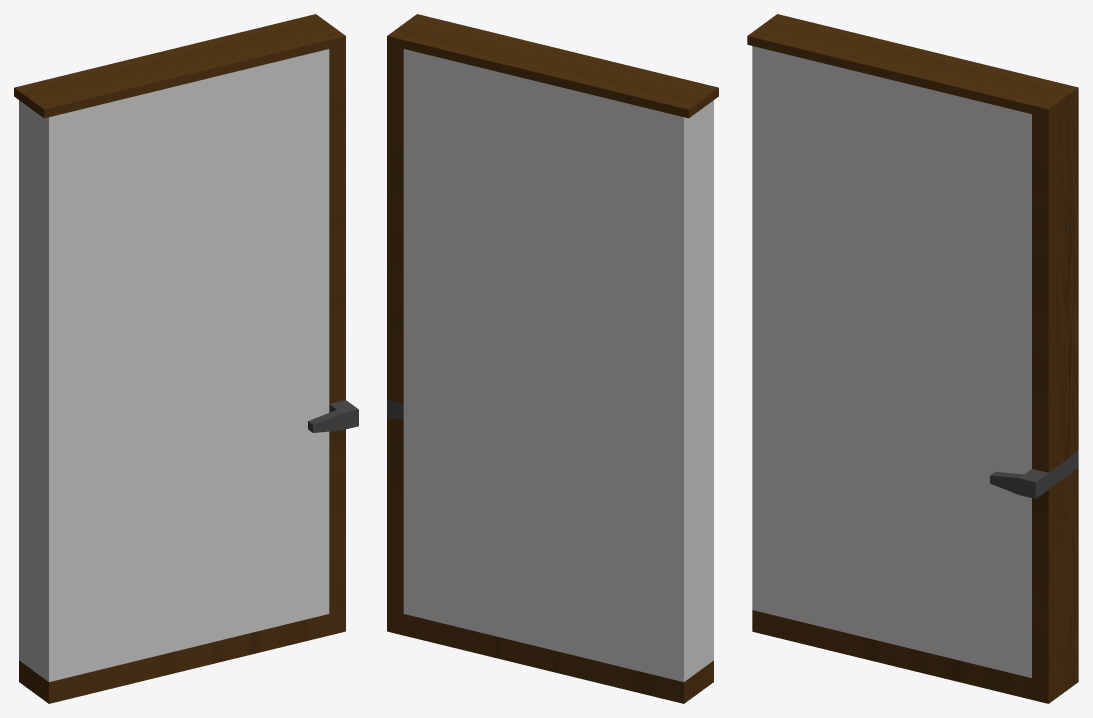
The model's file is entrance_door.glb.
The picture shows the model from 3 angles, left to right: view 1: azimuth 30°, elevation 25°; view 2: azimuth 150°, elevation 25°; view 3: azimuth 330°, elevation 25°; orthographic projection.
Visible parts, largest first — view 1: glass_door; view 2: glass_door; view 3: glass_door.
Part boxes in pixels (left/top/right/bottom): glass_door: left=14, top=14, right=358, bottom=703; glass_door: left=387, top=14, right=718, bottom=703; glass_door: left=747, top=14, right=1078, bottom=703.
Size of the model in its own units: 1.45 by 2.74 by 0.3581.
3 materials, 1 textured.
